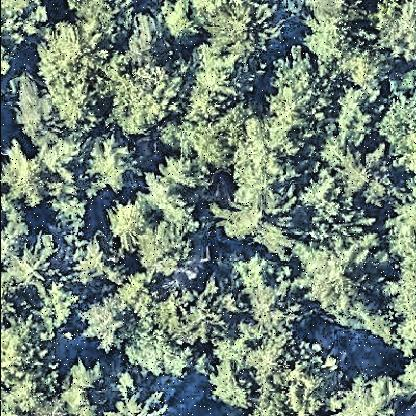tree-top: (225, 116, 304, 218), (249, 328, 337, 416), (41, 20, 118, 108), (227, 253, 309, 331), (381, 188, 416, 359), (255, 55, 337, 124), (289, 178, 371, 246), (153, 116, 251, 170), (179, 59, 253, 129), (1, 315, 50, 416), (111, 73, 183, 141), (377, 63, 416, 183), (308, 242, 376, 310), (154, 286, 228, 344), (302, 1, 366, 68), (136, 214, 196, 279), (142, 160, 210, 216), (17, 77, 63, 159), (116, 14, 178, 74), (208, 3, 272, 58), (46, 167, 93, 239), (61, 1, 141, 43), (124, 335, 200, 379), (56, 359, 112, 416), (89, 133, 144, 189), (341, 369, 401, 416), (81, 300, 135, 352), (3, 148, 47, 208), (103, 200, 155, 250), (344, 147, 393, 199), (108, 373, 166, 416), (154, 1, 206, 48), (79, 234, 126, 284), (1, 213, 36, 278), (1, 1, 50, 47), (213, 363, 254, 416), (375, 1, 416, 53), (338, 86, 382, 133), (40, 287, 83, 335), (349, 49, 391, 91), (17, 251, 57, 292), (392, 359, 416, 401)
